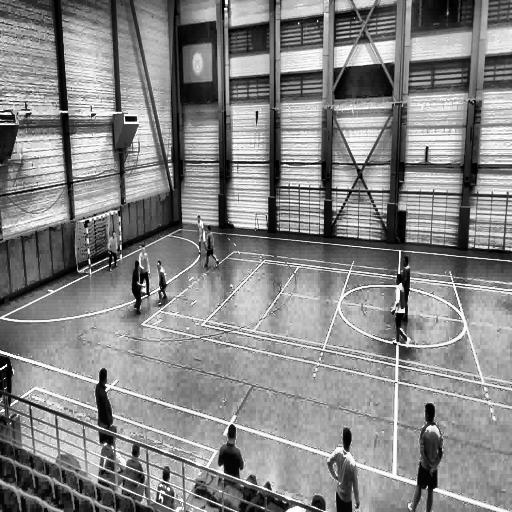ball: (140, 287, 148, 298)
player: (406, 404, 442, 512), (328, 427, 359, 512), (389, 270, 410, 347), (95, 370, 113, 440), (400, 253, 411, 330), (138, 245, 152, 299), (132, 260, 145, 314), (203, 226, 219, 268), (195, 213, 208, 258), (157, 260, 167, 304), (108, 231, 118, 271)
